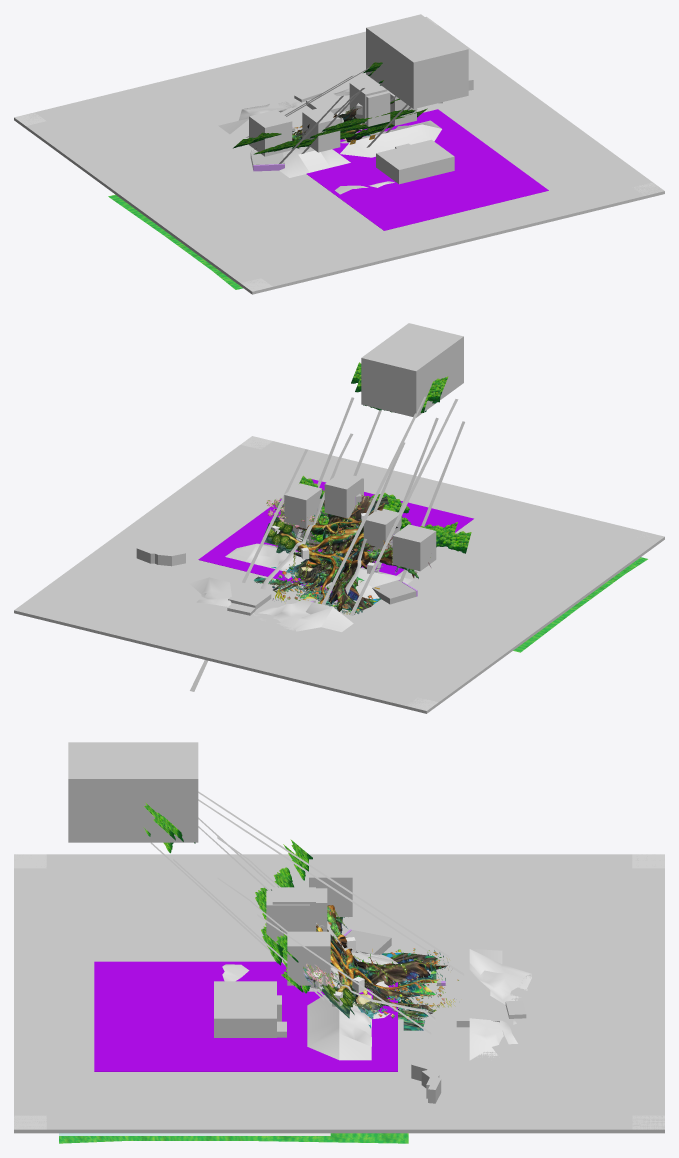
The picture shows the model from 3 angles, top to bottom: view 1: azimuth 30°, elevation 25°; view 2: azimuth 150°, elevation 25°; view 3: azimuth 270°, elevation 25°; orthographic projection. The views are drawn at different scales.
Parts seen in each view (by area): view 1: Cube_jimen, NavGrid_CheckArea, Game_Camera_Limit02 (×2), MapArea_03_001_ground, Cube (×2), Game_Camera_Limit01 (×2), Game_Camera_Limit05, MapArea_10_001_BackTree, Game_Camera_Limit04, Enkei01, MapArea_10_Water01_Tak_A2, Game_Camera_Limit06 (+1 smaller); view 2: Cube_jimen, Game_Camera_Limit02 (×2), MapArea_10_001_Ground, MapArea_03_001_ground, MapArea_10_Water01_Tak_A1, NavGrid_CheckArea, Game_Camera_Limit05, MapArea_01_001_FrontTree, Game_Camera_Limit01, Game_Camera_Limit03, Game_Camera_Limit04, Enkei01 (+6 smaller); view 3: Cube_jimen, NavGrid_CheckArea, Game_Camera_Limit02 (×2), MapArea_03_001_ground, MapArea_10_001_Ground, Cube, MapArea_10_Water01_Tak_A1, Enkei01, Game_Camera_Limit01 (×2), Game_Camera_Limit03, Game_Camera_Limit05, MapArea_10_001_BackTree (+5 smaller).
Part boxes in pixels (<box>): Cube_jimen: <box>14,17,664,294</box>; NavGrid_CheckArea: <box>306,109,548,230</box>; Game_Camera_Limit02 (×2): <box>366,14,468,108</box>; MapArea_03_001_ground: <box>14,17,661,291</box>; Cube (×2): <box>288,139,591,285</box>; Game_Camera_Limit01 (×2): <box>349,77,390,126</box>; Game_Camera_Limit05: <box>249,109,292,156</box>; MapArea_10_001_BackTree: <box>254,80,427,154</box>; Game_Camera_Limit04: <box>302,107,340,152</box>; Enkei01: <box>108,194,242,289</box>; MapArea_10_Water01_Tak_A2: <box>246,67,411,163</box>; Game_Camera_Limit06: <box>306,94,349,113</box>; Cube_jimen: <box>14,438,664,713</box>; Game_Camera_Limit02 (×2): <box>361,323,463,417</box>; MapArea_10_001_Ground: <box>254,495,431,613</box>; MapArea_03_001_ground: <box>189,436,646,710</box>; MapArea_10_Water01_Tak_A1: <box>190,396,464,691</box>; NavGrid_CheckArea: <box>198,479,473,592</box>; Game_Camera_Limit05: <box>392,524,436,571</box>; MapArea_01_001_FrontTree: <box>299,362,471,553</box>; Game_Camera_Limit01: <box>324,472,362,518</box>; Game_Camera_Limit03: <box>284,483,321,528</box>; Game_Camera_Limit04: <box>363,509,401,550</box>; Enkei01: <box>513,557,647,652</box>; Cube_jimen: <box>14,854,664,1133</box>; NavGrid_CheckArea: <box>94,961,397,1071</box>; Game_Camera_Limit02 (×2): <box>68,742,198,842</box>; MapArea_03_001_ground: <box>14,854,664,1129</box>; MapArea_10_001_Ground: <box>303,905,447,1030</box>; Cube: <box>214,981,276,1037</box>; MapArea_10_Water01_Tak_A1: <box>150,791,464,1034</box>; Enkei01: <box>59,1133,408,1143</box>; Game_Camera_Limit01 (×2): <box>266,887,315,944</box>; Game_Camera_Limit03: <box>287,931,330,985</box>; Game_Camera_Limit05: <box>309,859,352,916</box>; MapArea_10_001_BackTree: <box>143,827,310,993</box>.
Size of what is drawn, in the model's own units: 150 by 83.78 by 150.
